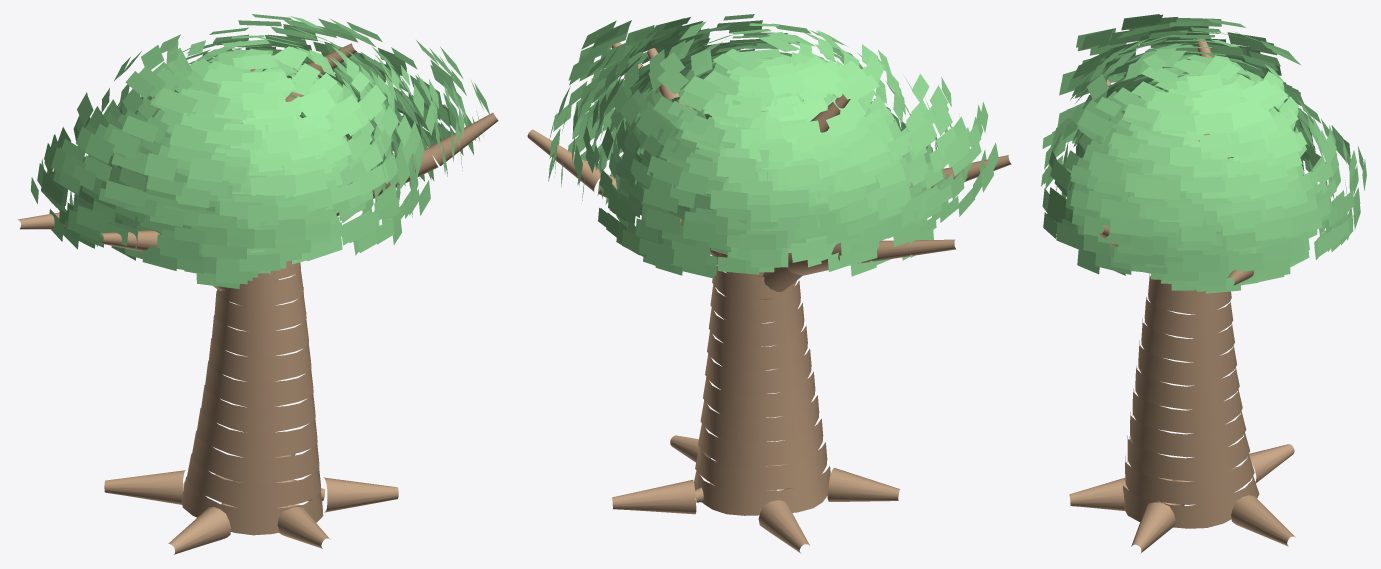
Rendered from oak_tree_quest.glb.
The picture shows the model from 3 angles, left to right: view 1: azimuth 30°, elevation 25°; view 2: azimuth 150°, elevation 25°; view 3: azimuth 270°, elevation 25°; orthographic projection. The views are drawn at different scales.
Visible parts, largest first — view 1: Oak_Leaves_LOD0, Oak_Trunk, Oak_Branches; view 2: Oak_Leaves_LOD0, Oak_Trunk, Oak_Branches; view 3: Oak_Leaves_LOD0, Oak_Trunk, Oak_Branches.
Boxes of the visible parts, <box> form: Oak_Leaves_LOD0: <box>30,14,489,288</box>; Oak_Trunk: <box>181,260,323,535</box>; Oak_Branches: <box>18,43,498,554</box>; Oak_Leaves_LOD0: <box>548,14,998,278</box>; Oak_Trunk: <box>694,252,830,515</box>; Oak_Branches: <box>527,42,1011,553</box>; Oak_Leaves_LOD0: <box>1041,14,1366,293</box>; Oak_Trunk: <box>1122,273,1259,528</box>; Oak_Branches: <box>1069,38,1295,553</box>.
Size of what is drawn, in the model's own units: 4.53 by 4.73 by 3.05.
